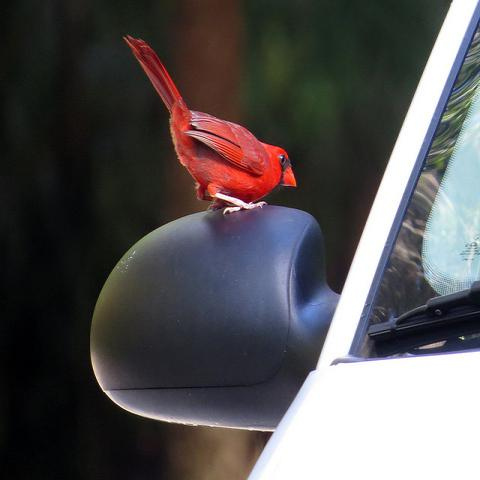car: (89, 1, 478, 475)
